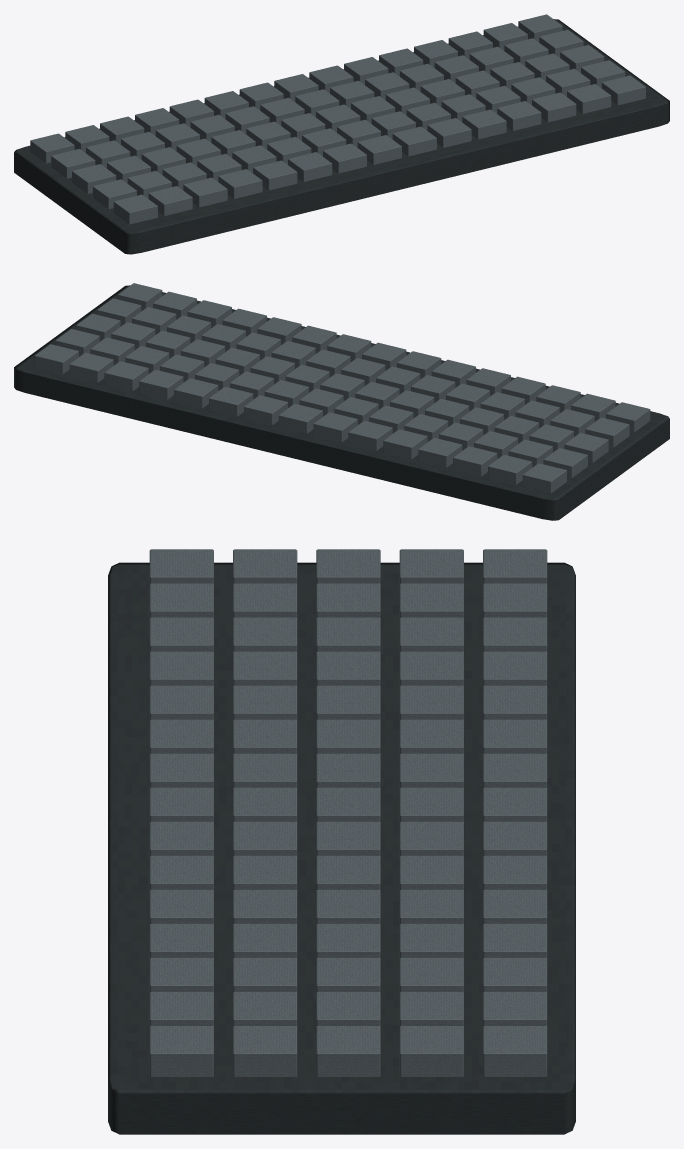
Rendered from keyboard.glb.
3 views of the same model, one above another, from view 1: azimuth 30°, elevation 25°; view 2: azimuth 150°, elevation 25°; view 3: azimuth 270°, elevation 25° (orthographic). The views are drawn at different scales.
Visible parts, largest first — view 1: key (×75), case; view 2: key (×75), case; view 3: key (×75), case.
Part boxes in pixels (left/top/right/bottom): key (×75): left=30, top=14, right=645, bottom=224; case: left=14, top=19, right=669, bottom=254; key (×75): left=34, top=283, right=650, bottom=493; case: left=14, top=285, right=669, bottom=520; key (×75): left=149, top=549, right=547, bottom=1076; case: left=108, top=562, right=575, bottom=1134.
Bounding box in the file's own units: 0.43 × 0.025 × 0.16.
Materials: 2 (2 with a texture image).
